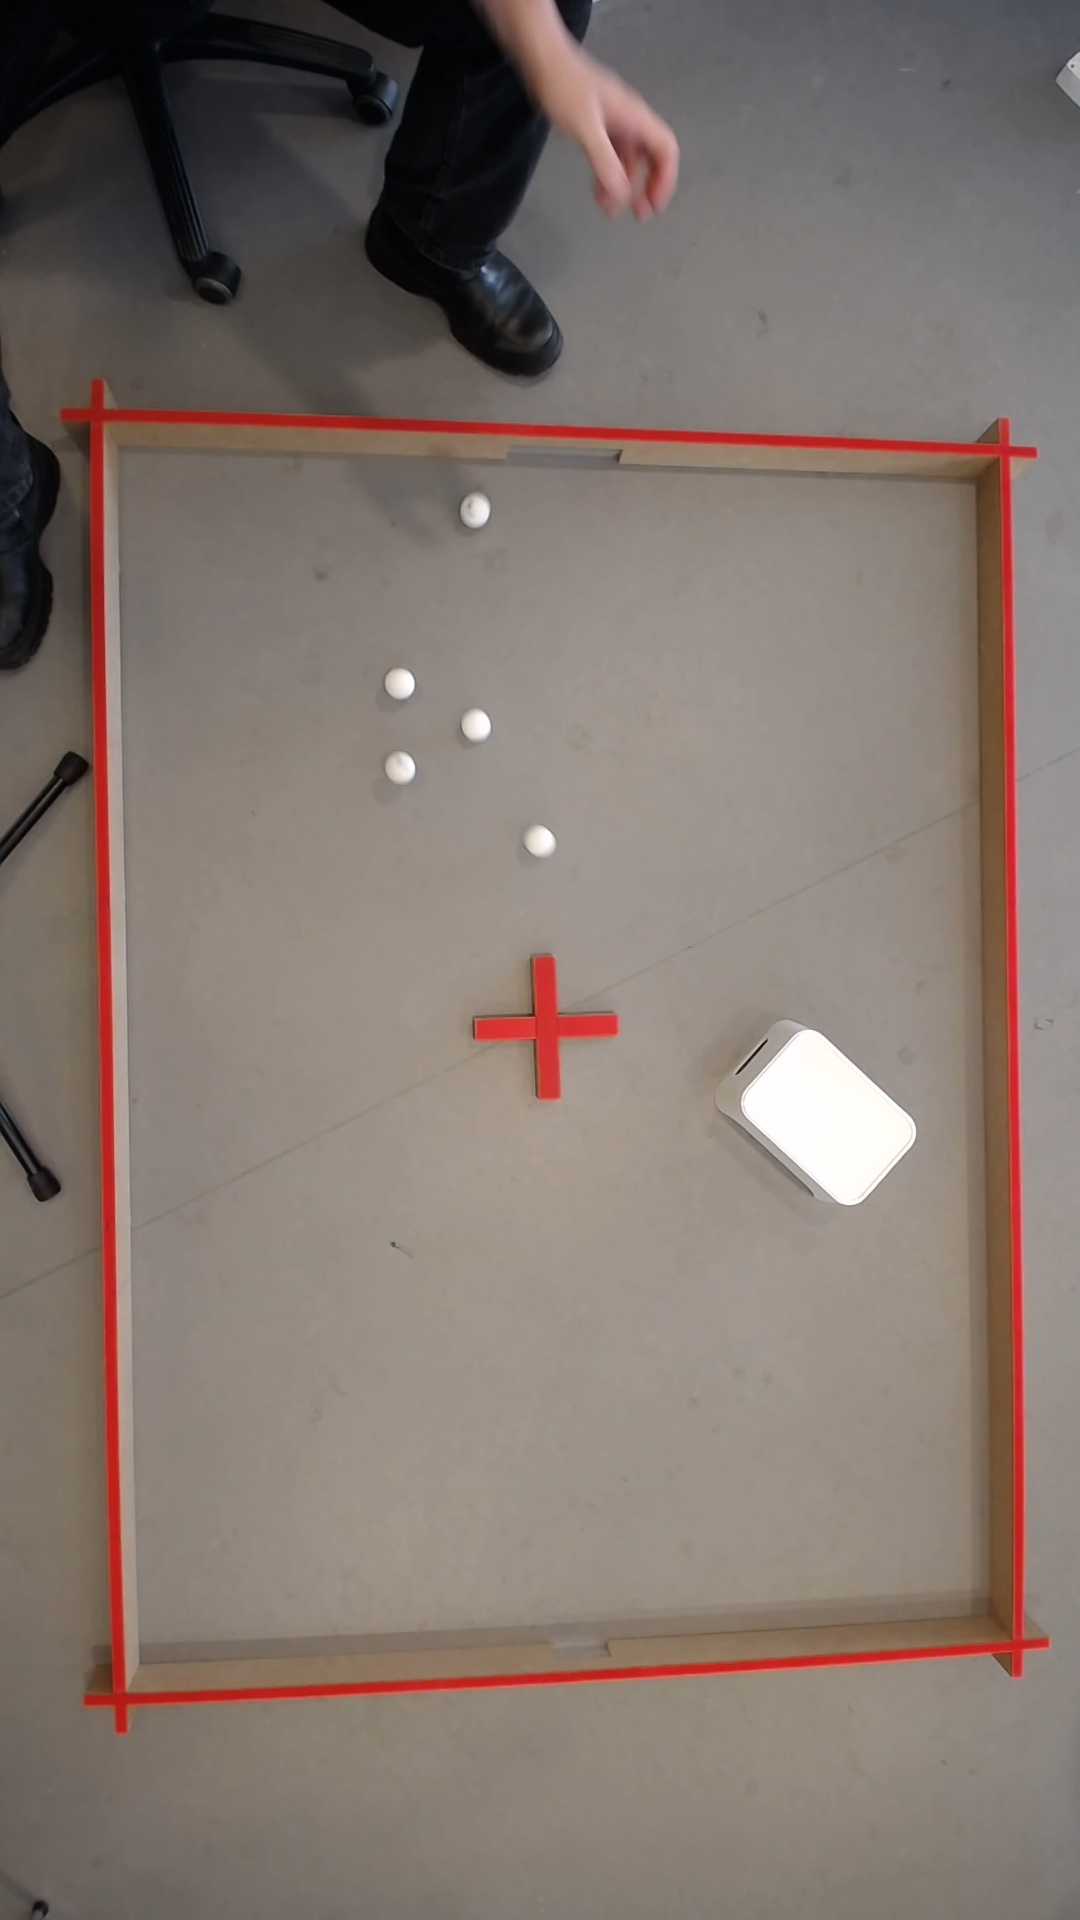balls: (729, 1019, 927, 1215), (386, 666, 418, 699), (388, 752, 419, 783), (468, 495, 491, 525), (467, 709, 491, 737), (530, 828, 554, 853)
car: (588, 104, 613, 156)
